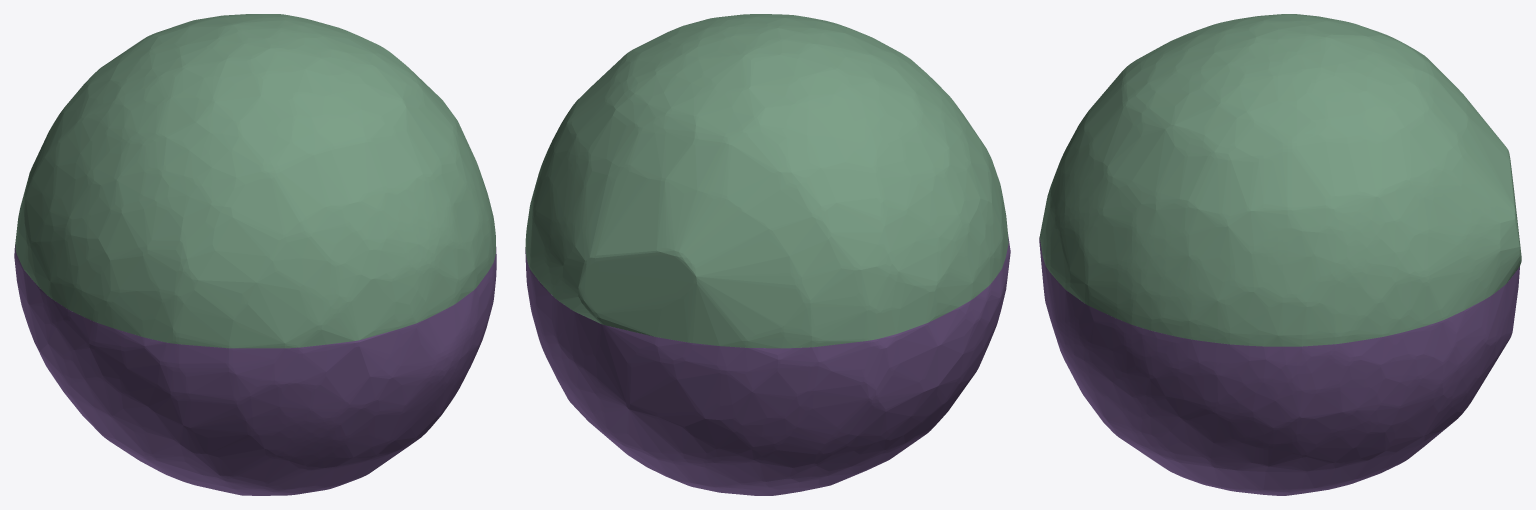
File: coacd_collision.obj
3 renders of one model, left to right at view 1: azimuth 30°, elevation 25°; view 2: azimuth 150°, elevation 25°; view 3: azimuth 270°, elevation 25°, orthographic.
Visible parts, largest first — view 1: geometry_0, geometry_1; view 2: geometry_0, geometry_1; view 3: geometry_0, geometry_1.
Boxes of the visible parts, bbox=[...] form: geometry_0: bbox=[15, 14, 495, 348]; geometry_1: bbox=[14, 244, 496, 495]; geometry_0: bbox=[525, 14, 1008, 348]; geometry_1: bbox=[525, 234, 1010, 495]; geometry_0: bbox=[1039, 14, 1521, 346]; geometry_1: bbox=[1039, 237, 1519, 495].
Bounding box in the file's own units: 75.54 × 75.65 × 76.06.
